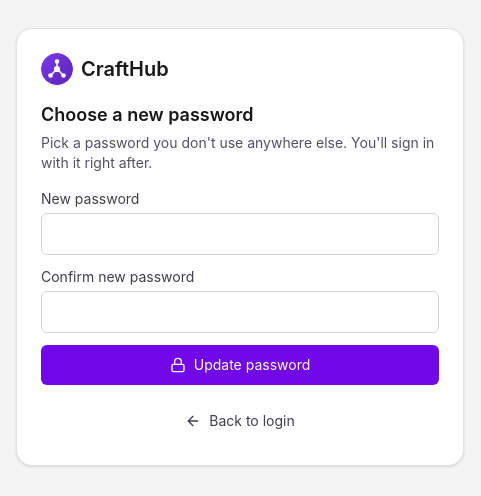
Test: reset password — rejected by the form › refuses two passwords that do not match
The width and height of the screenshot is (481, 496).
Type "secret123" into the password field labelled "New password". click: x=240, y=234
box: [41,213,439,255]
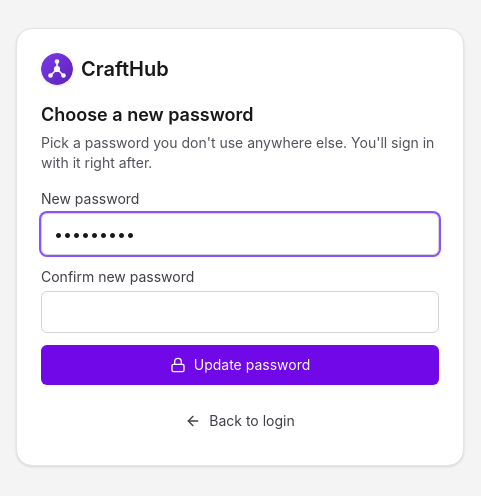
Type "secret124" into the password field labelled "Confirm new password". click: x=240, y=312
box: [41,291,439,333]
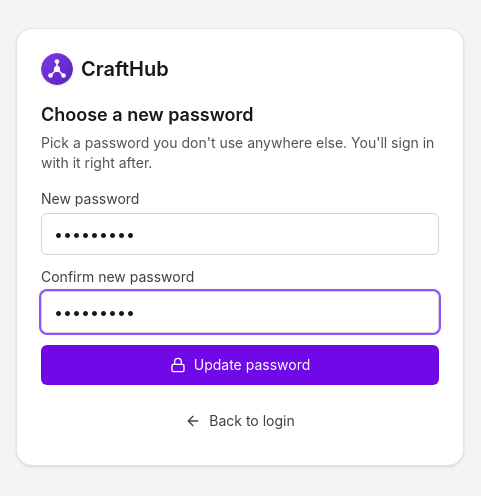
Click the button "Update password". click: x=240, y=365
box: [41,345,439,385]
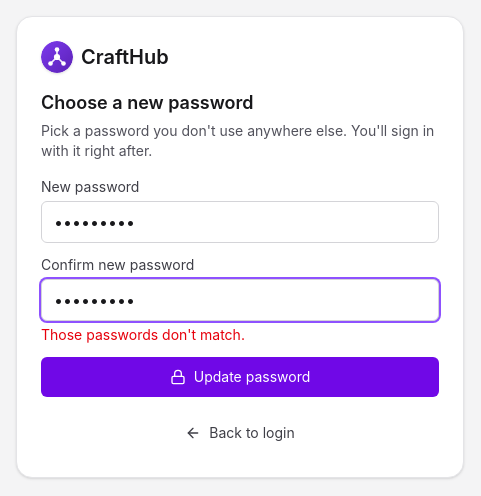
Expected: the text "Those passwords don't match." is shown, [41,326,245,343]
